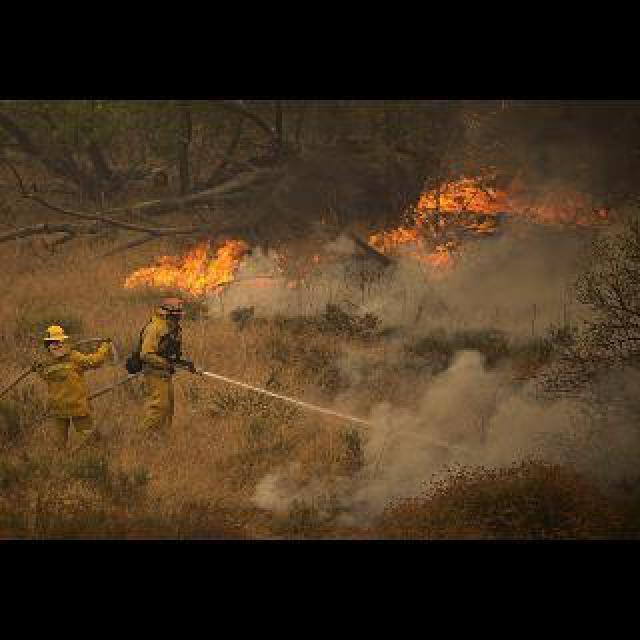Fire: (368, 166, 598, 270), (124, 230, 326, 294)
